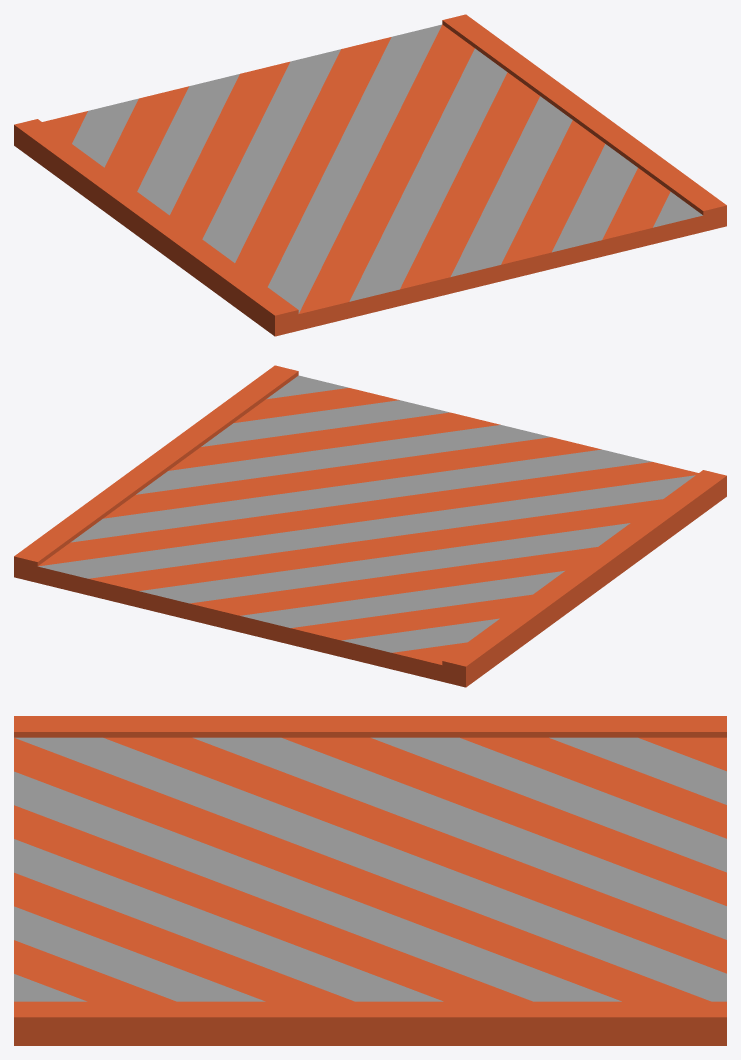
The model's file is Flr-Pedest.fbx.
3 views of the same model, one above another, from view 1: azimuth 30°, elevation 25°; view 2: azimuth 150°, elevation 25°; view 3: azimuth 270°, elevation 25° (orthographic). The views are drawn at different scales.
Parts seen in each view (by area): view 1: Pedestrian_Lane; view 2: Pedestrian_Lane; view 3: Pedestrian_Lane.
Boxes of the visible parts, x1,y1,x2,y2 form: Pedestrian_Lane: (14,14,726,336); Pedestrian_Lane: (14,365,726,687); Pedestrian_Lane: (14,716,726,1045).
Bounding box in the file's own units: 1.33 × 1.33 × 0.0586.
